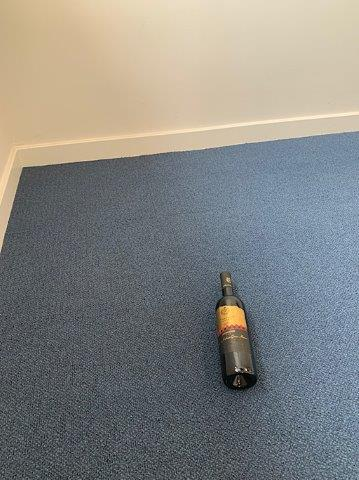botolkaca: (217, 272, 259, 390)
